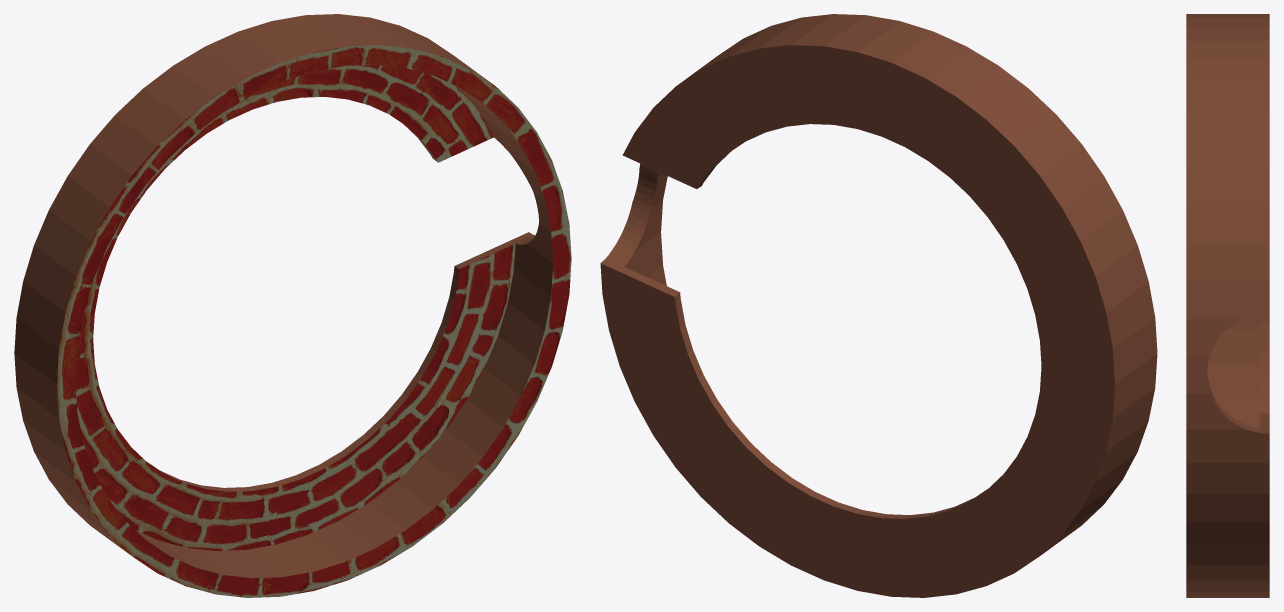
The model's file is pool_033.obj.
3 renders of one model, left to right at view 1: azimuth 30°, elevation 25°; view 2: azimuth 150°, elevation 25°; view 3: azimuth 270°, elevation 25°, orthographic.
Size of the model in its own units: 28 by 28 by 4.
